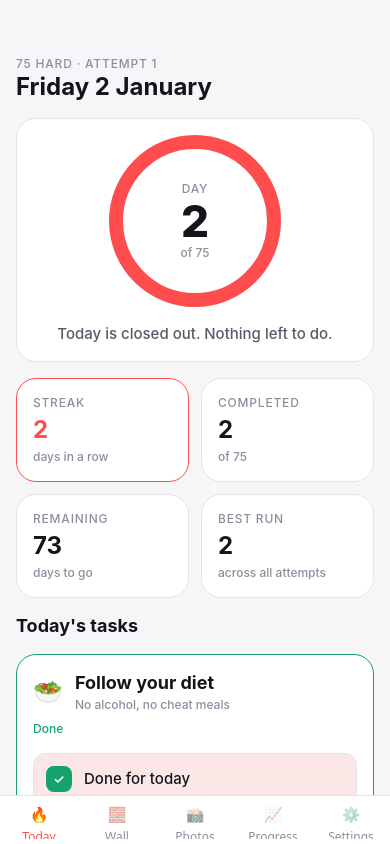
Test: Photos tab › shows the before/after pair once two photos exist
Check: the text "Today" is shown, box [22,829,56,839]
Step 1. Click the text "Photos" → [195, 834], box [175,829,215,839]
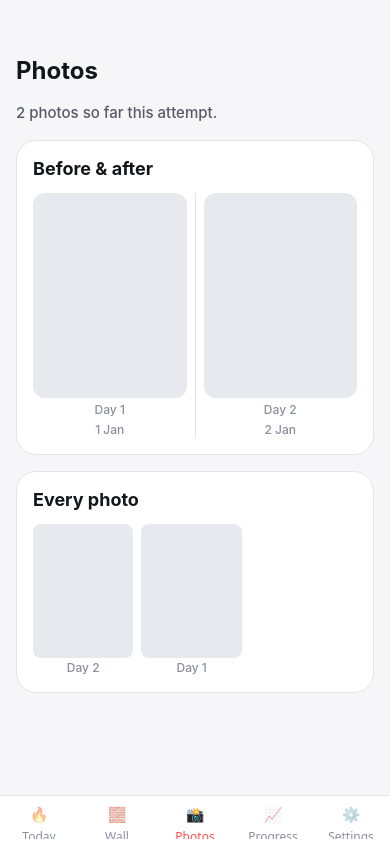
Check: the text "Before & after" is shown, box [33,158,153,179]
Check: the text "2 photos so far this attempt." is shown, box [16,103,217,122]
